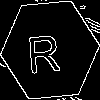R: (25, 25, 61, 74)
